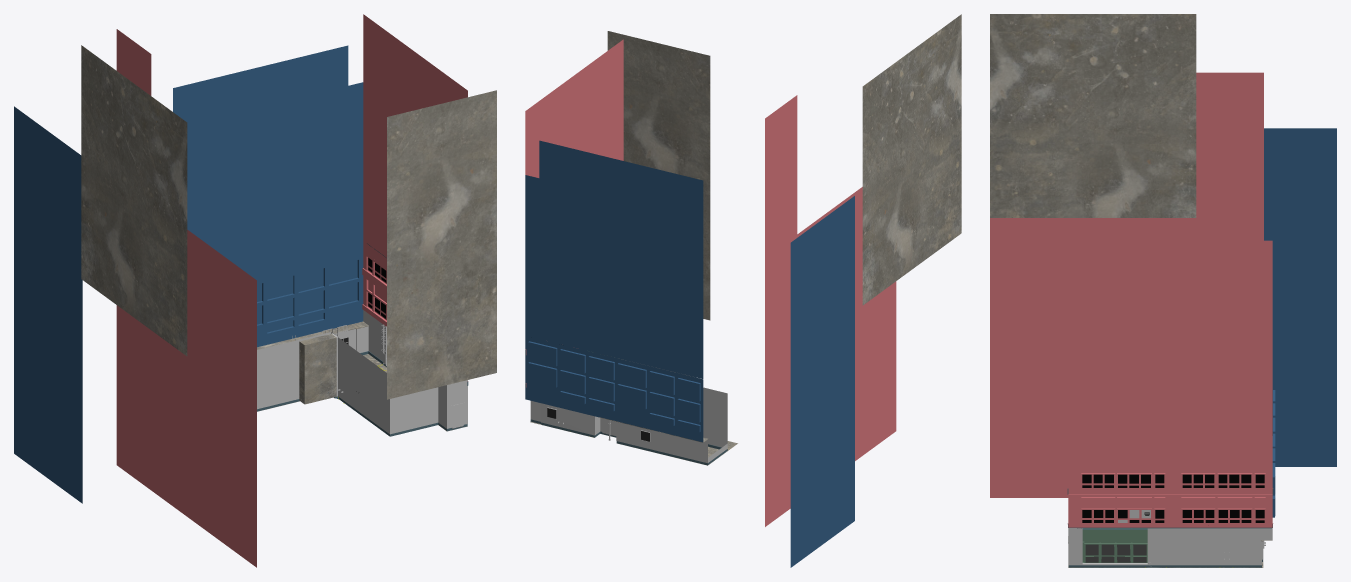
File: Alley.fbx
3 renders of one model, left to right at view 1: azimuth 30°, elevation 25°; view 2: azimuth 150°, elevation 25°; view 3: azimuth 270°, elevation 25°, orthographic. The views are drawn at different scales.
Parts seen in each view (by area): view 1: BackgroundWall, Wall; view 2: BackgroundWall, Wall; view 3: BackgroundWall, Wall, SideWindow.
Part boxes in pixels (x1,y1,x2,y2): BackgroundWall: (14,14,496,567); Wall: (257,241,468,436); BackgroundWall: (525,14,961,567); Wall: (525,336,727,465); BackgroundWall: (990,14,1336,497); Wall: (1067,390,1275,567); SideWindow: (1082,528,1147,562).
Bounding box in the file's own units: 4886 × 6278 × 4375.
